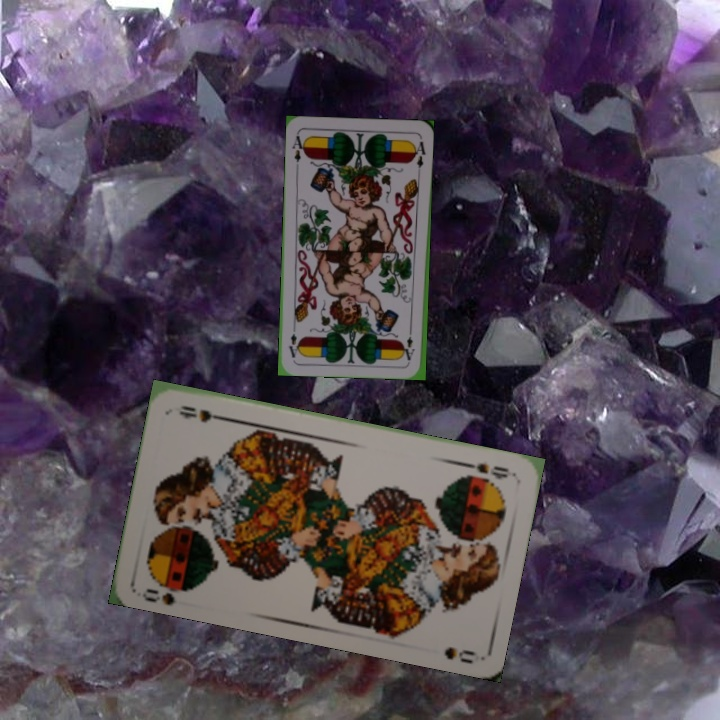EA: (288, 130, 308, 165), (402, 323, 417, 363)
SO: (138, 575, 196, 607), (457, 458, 512, 482)
